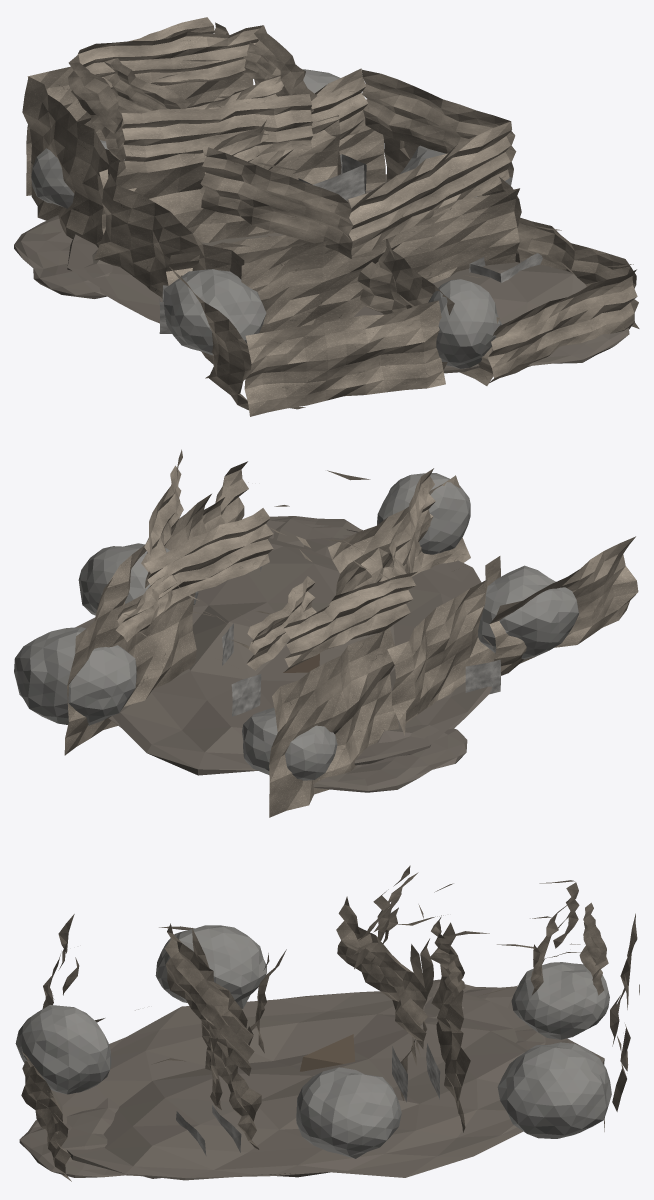
File: rubble-brick-a-hy3-v1.glb
3 views of the same model, one above another, from view 1: azimuth 30°, elevation 25°; view 2: azimuth 150°, elevation 25°; view 3: azimuth 270°, elevation 25° (orthographic). The views are drawn at different scales.
Parts seen in each view (by area): view 1: geometry_4, geometry_2, geometry_1, geometry_5, geometry_3, geometry_0, geometry_17, geometry_12, geometry_6, geometry_13, geometry_19, geometry_15 (+3 smaller); view 2: geometry_17, geometry_3, geometry_5, geometry_2, geometry_1, geometry_14, geometry_12, geometry_19, geometry_4, geometry_6, geometry_15, geometry_13 (+5 smaller); view 3: geometry_17, geometry_4, geometry_14, geometry_11, geometry_13, geometry_15, geometry_0, geometry_12, geometry_2, geometry_18, geometry_5, geometry_3 (+6 smaller).
Part boxes in pixels (left/top/right/bottom): geometry_4: left=200, top=68, right=516, bottom=258; geometry_2: left=94, top=99, right=521, bottom=333; geometry_1: left=166, top=235, right=454, bottom=416; geometry_5: left=68, top=25, right=317, bottom=172; geometry_3: left=22, top=66, right=341, bottom=247; geometry_0: left=357, top=217, right=639, bottom=385; geometry_17: left=67, top=174, right=586, bottom=373; geometry_12: left=164, top=269, right=266, bottom=355; geometry_6: left=103, top=17, right=305, bottom=113; geometry_13: left=428, top=279, right=501, bottom=368; geometry_19: left=14, top=215, right=112, bottom=298; geometry_15: left=31, top=140, right=124, bottom=208; geometry_17: left=76, top=520, right=491, bottom=775; geometry_3: left=64, top=592, right=399, bottom=817; geometry_5: left=143, top=508, right=417, bottom=671; geometry_2: left=94, top=494, right=500, bottom=735; geometry_1: left=328, top=475, right=638, bottom=675; geometry_14: left=14, top=627, right=136, bottom=725; geometry_12: left=478, top=565, right=578, bottom=659; geometry_19: left=313, top=725, right=467, bottom=792; geometry_4: left=141, top=449, right=435, bottom=588; geometry_6: left=115, top=575, right=316, bottom=670; geometry_15: left=242, top=707, right=337, bottom=780; geometry_13: left=377, top=473, right=470, bottom=554; geometry_17: left=51, top=988, right=604, bottom=1180; geometry_4: left=164, top=896, right=428, bottom=1075; geometry_14: left=497, top=1042, right=611, bottom=1138; geometry_11: left=296, top=1067, right=401, bottom=1158; geometry_13: left=15, top=1005, right=111, bottom=1094; geometry_15: left=511, top=962, right=609, bottom=1039; geometry_0: left=21, top=1036, right=261, bottom=1181; geometry_12: left=155, top=925, right=266, bottom=1008; geometry_2: left=192, top=922, right=470, bottom=1132; geometry_18: left=19, top=1098, right=145, bottom=1177; geometry_5: left=354, top=865, right=579, bottom=994; geometry_3: left=400, top=904, right=639, bottom=1131.
Size of the model in its own units: 1.38 by 0.5574 by 1.81.
Materials: 5 (5 with a texture image).
